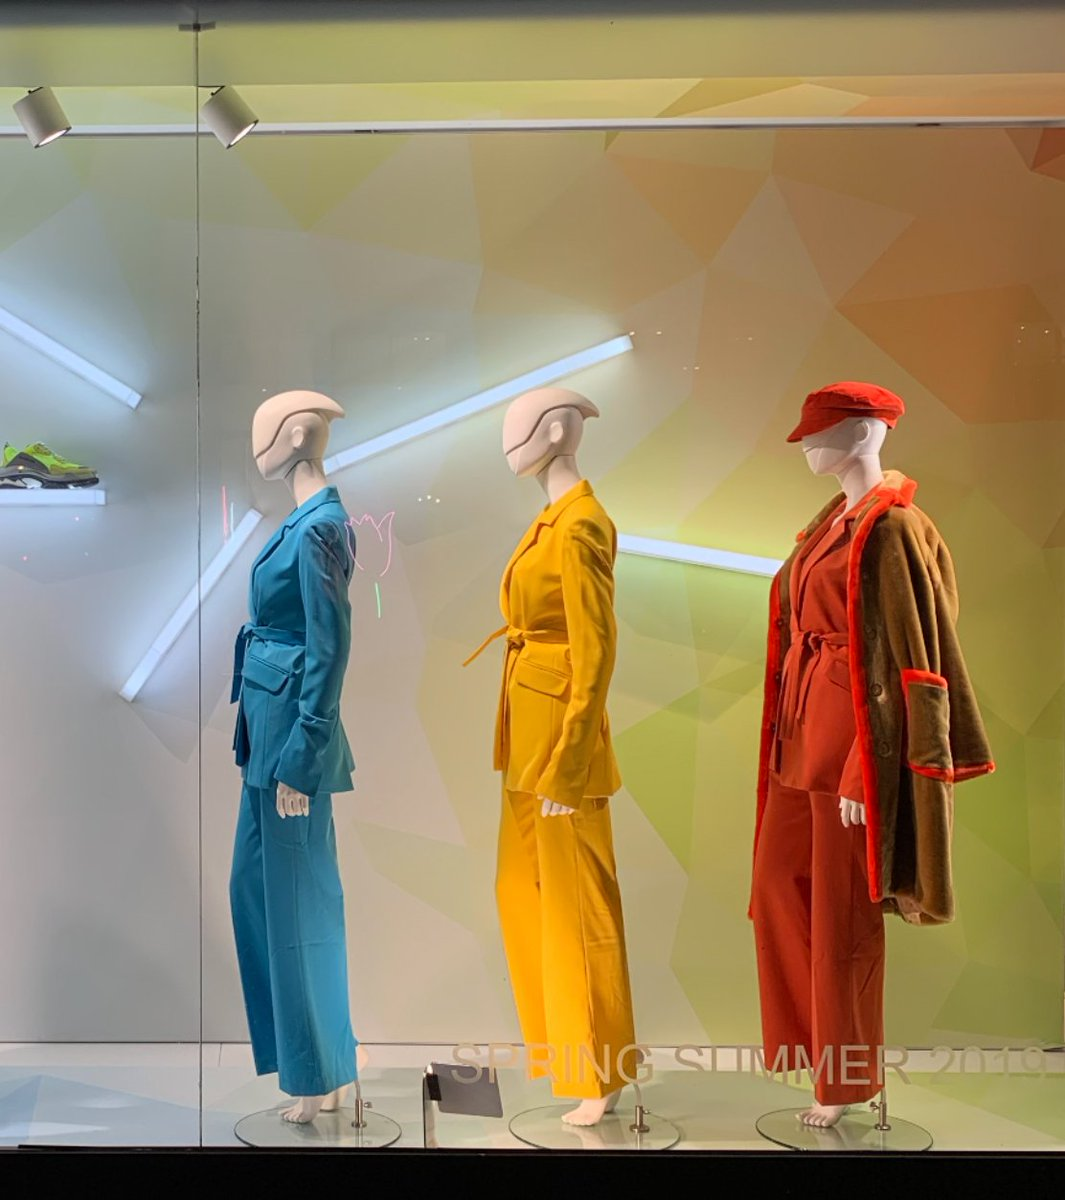person-like: (737, 371, 1005, 1139), (480, 380, 651, 1134), (215, 385, 373, 1131)
